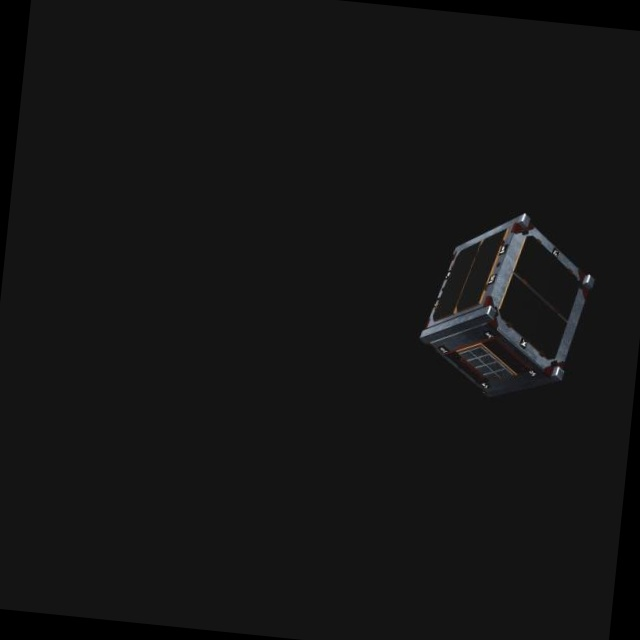medium_debris: (409, 199, 610, 421)
